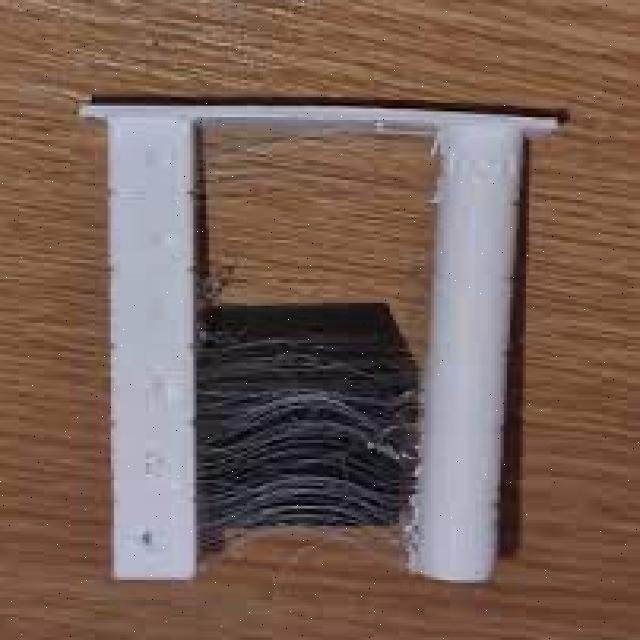stringing: (200, 328, 422, 572)
